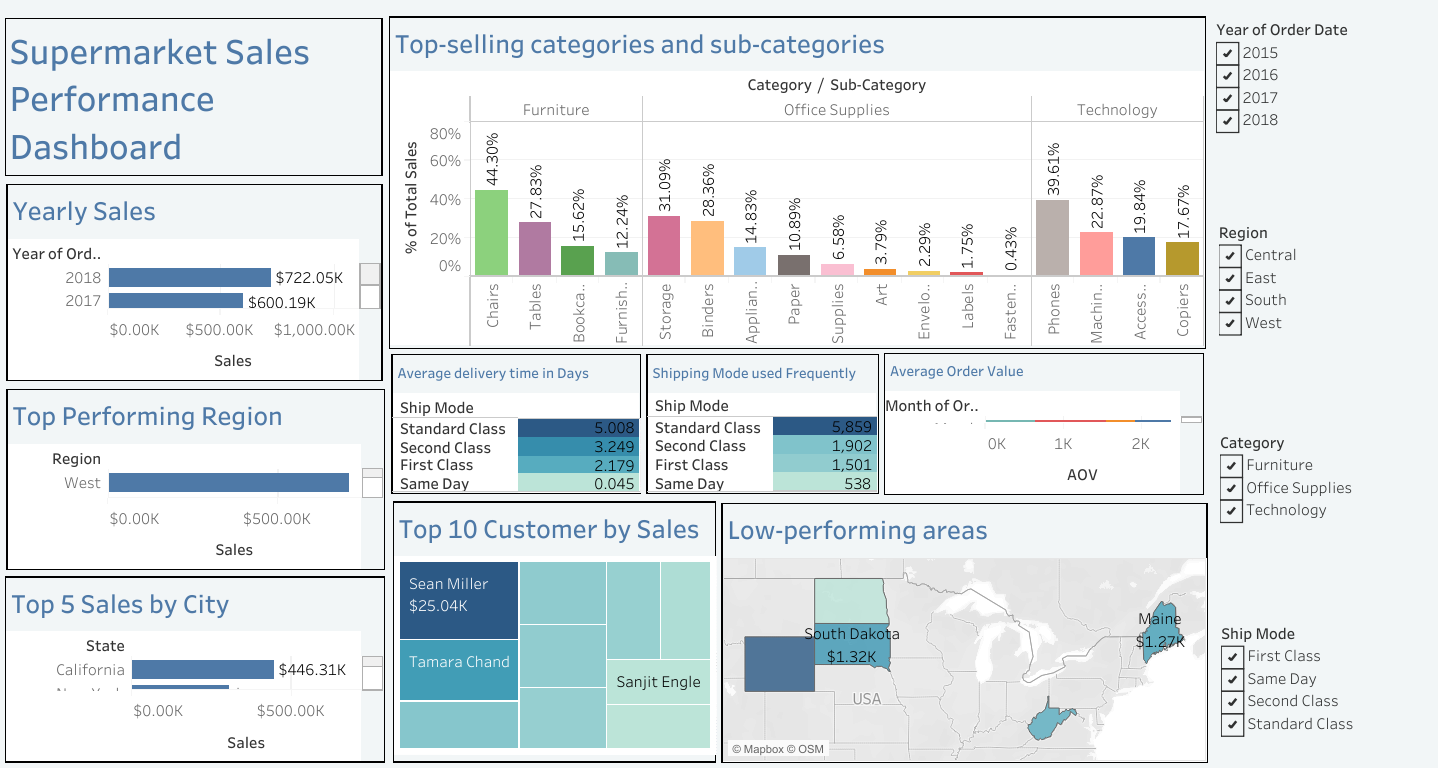

The dashboard page shown, as its layout file describes it:
{"tool":"tableau","page":{"name":"Dashboard 1","canvas":[1000,1000],"units":"permille","ordinal":0},"visuals":[{"type":"worksheet","title":"Sheet 9","mark":"Automatic","cols":["Category","Sub-Category"],"box":[270.4,21.2,567.9,432]},{"type":"filter","title":"Sheet 2","param":"[federated.1ih116n1s84jgs18499rt1i130hc].[yr:Order Date:ok]","box":[845.5,21.2,109.2,212.2]},{"type":"text","box":[3.6,22.5,261.9,207.2]},{"type":"worksheet","title":"Sheet 2","mark":"Bar","rows":["Order Date"],"cols":["Sales"],"box":[4.2,238.5,261.9,257.2]},{"type":"filter","title":"Sheet 3","param":"[federated.1ih116n1s84jgs18499rt1i130hc].[none:Region:nk]","box":[847.3,284.6,96.6,178.5]},{"type":"worksheet","title":"Sheet 3","mark":"Bar","rows":["Order Date"],"cols":["Calculation_734931187688353793"],"box":[614.4,458.2,222.7,186]},{"type":"worksheet","title":"Sheet 12","mark":"Square","rows":["Ship Mode"],"box":[449,459.4,161.7,183.5]},{"type":"worksheet","title":"Sheet 11","mark":"Square","rows":["Ship Mode"],"box":[271.6,460.7,173.8,182.3]},{"type":"worksheet","title":"Sheet 5","mark":"Automatic","rows":["Region"],"cols":["Sales"],"box":[4.2,505.6,263.1,236]},{"type":"filter","title":"Sheet 9","param":"[federated.1ih116n1s84jgs18499rt1i130hc].[none:Category:nk]","box":[847.9,558.1,96.6,149.8]},{"type":"worksheet","title":"Sheet 8","mark":"Automatic","box":[272.8,651.7,225.1,340.8]},{"type":"worksheet","title":"Sheet 6","mark":"Automatic","box":[501.5,652.9,337.4,338.3]},{"type":"worksheet","title":"Sheet 4","mark":"Automatic","rows":["State"],"cols":["Sales"],"box":[3.6,749.1,264.3,243.5]},{"type":"filter","title":"Sheet 11","param":"[federated.1ih116n1s84jgs18499rt1i130hc].[none:Ship Mode:nk]","box":[848.5,806.5,96.6,178.5]}]}

Visuals, with their boxes on the dashboard's canvas, which has no fixed pixel size, in thousandths of its width and height (x1, y1, x2, y2). These are canvas units, not pixel positions in the 1438x768 screenshot, which may show the page scaled, cropped or inside an application window:
"Sheet 9" worksheet: x1=270, y1=21, x2=838, y2=453
"Sheet 2" filter: x1=846, y1=21, x2=955, y2=233
text: x1=4, y1=22, x2=266, y2=230
"Sheet 2" worksheet (Bar marks): x1=4, y1=238, x2=266, y2=496
"Sheet 3" filter: x1=847, y1=285, x2=944, y2=463
"Sheet 3" worksheet (Bar marks): x1=614, y1=458, x2=837, y2=644
"Sheet 12" worksheet (Square marks): x1=449, y1=459, x2=611, y2=643
"Sheet 11" worksheet (Square marks): x1=272, y1=461, x2=445, y2=643
"Sheet 5" worksheet: x1=4, y1=506, x2=267, y2=742
"Sheet 9" filter: x1=848, y1=558, x2=944, y2=708
"Sheet 8" worksheet: x1=273, y1=652, x2=498, y2=992
"Sheet 6" worksheet: x1=502, y1=653, x2=839, y2=991
"Sheet 4" worksheet: x1=4, y1=749, x2=268, y2=993
"Sheet 11" filter: x1=848, y1=806, x2=945, y2=985
